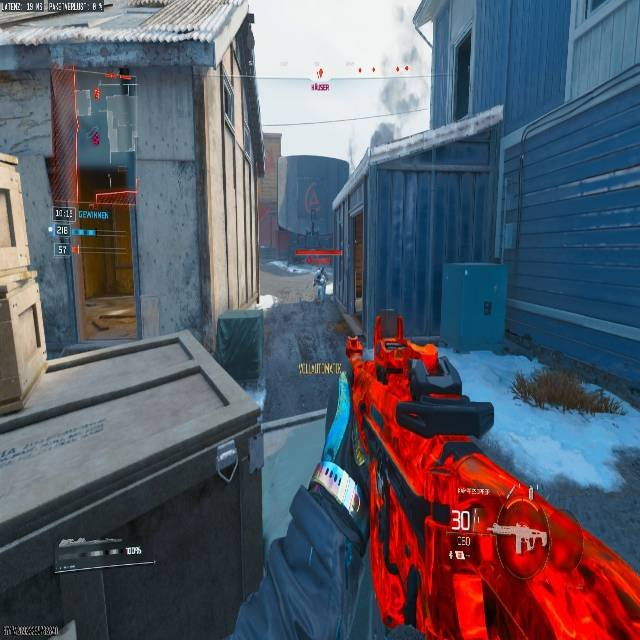player: (312, 267, 326, 300)
